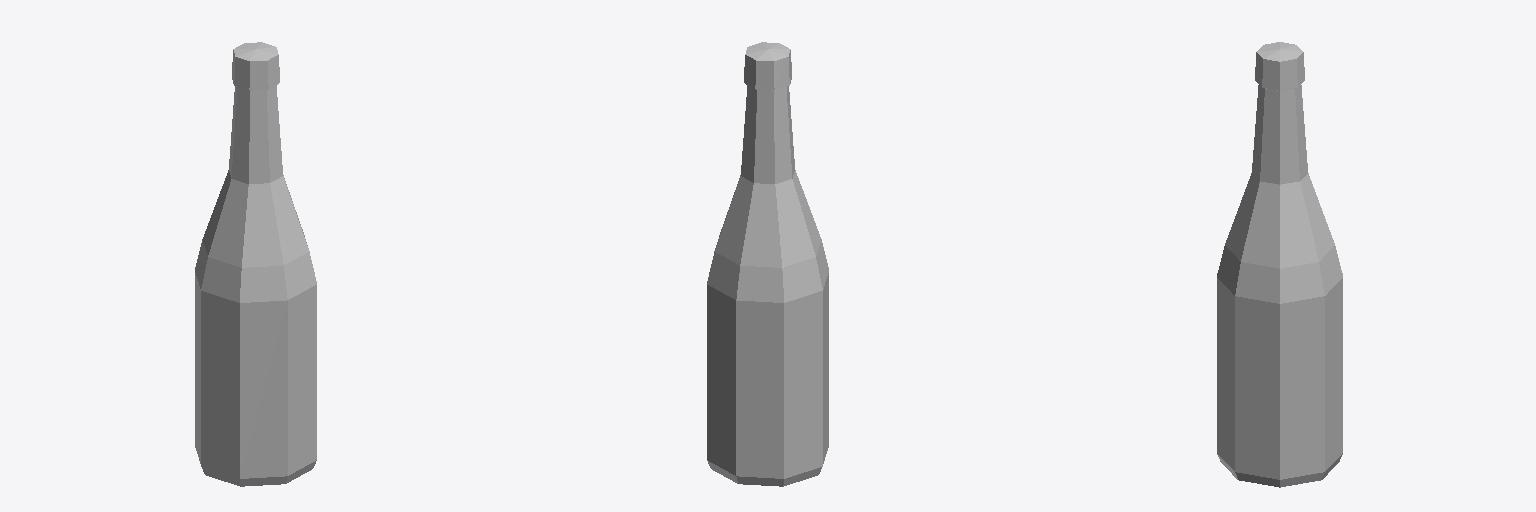
The model's file is bottle.obj.
3 renders of one model, left to right at view 1: azimuth 30°, elevation 25°; view 2: azimuth 150°, elevation 25°; view 3: azimuth 270°, elevation 25°, orthographic.
Parts seen in each view (by area): view 1: Line002; view 2: Line002; view 3: Line002.
Boxes of the visible parts, x1,y1,x2,y2 form: Line002: [195, 42, 316, 486]; Line002: [707, 42, 828, 486]; Line002: [1217, 42, 1342, 487].
Size of the model in its own units: 2.69 by 9.68 by 2.69.